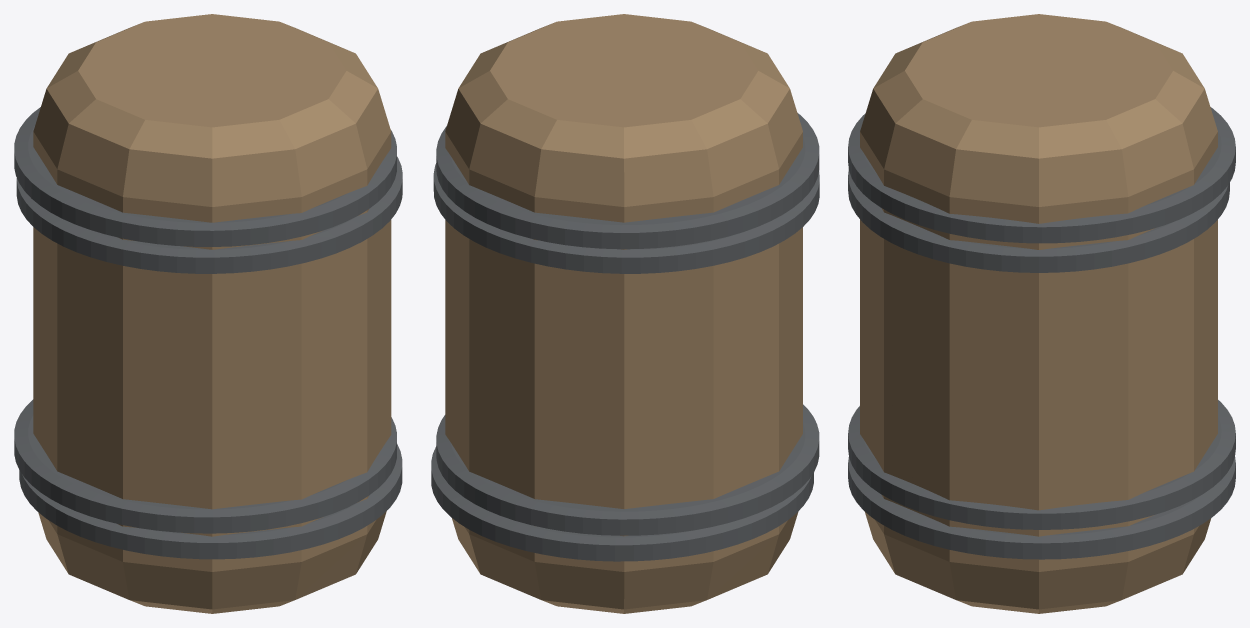
The model's file is barrels.glb.
3 renders of one model, left to right at view 1: azimuth 30°, elevation 25°; view 2: azimuth 150°, elevation 25°; view 3: azimuth 270°, elevation 25°, orthographic.
Parts seen in each view (by area): view 1: Mesh_Mesh_head_geo.001_lambert2SG.001; view 2: Mesh_Mesh_head_geo.001_lambert2SG.001; view 3: Mesh_Mesh_head_geo.001_lambert2SG.001.
Part boxes in pixels (left/top/right/bottom): Mesh_Mesh_head_geo.001_lambert2SG.001: left=14, top=14, right=402, bottom=613; Mesh_Mesh_head_geo.001_lambert2SG.001: left=431, top=14, right=819, bottom=613; Mesh_Mesh_head_geo.001_lambert2SG.001: left=848, top=14, right=1235, bottom=613.
Bounding box in the file's own units: 6.5 × 9 × 6.5.
